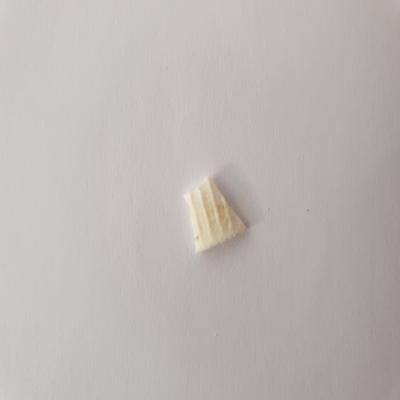plastic: (182, 171, 250, 258)
